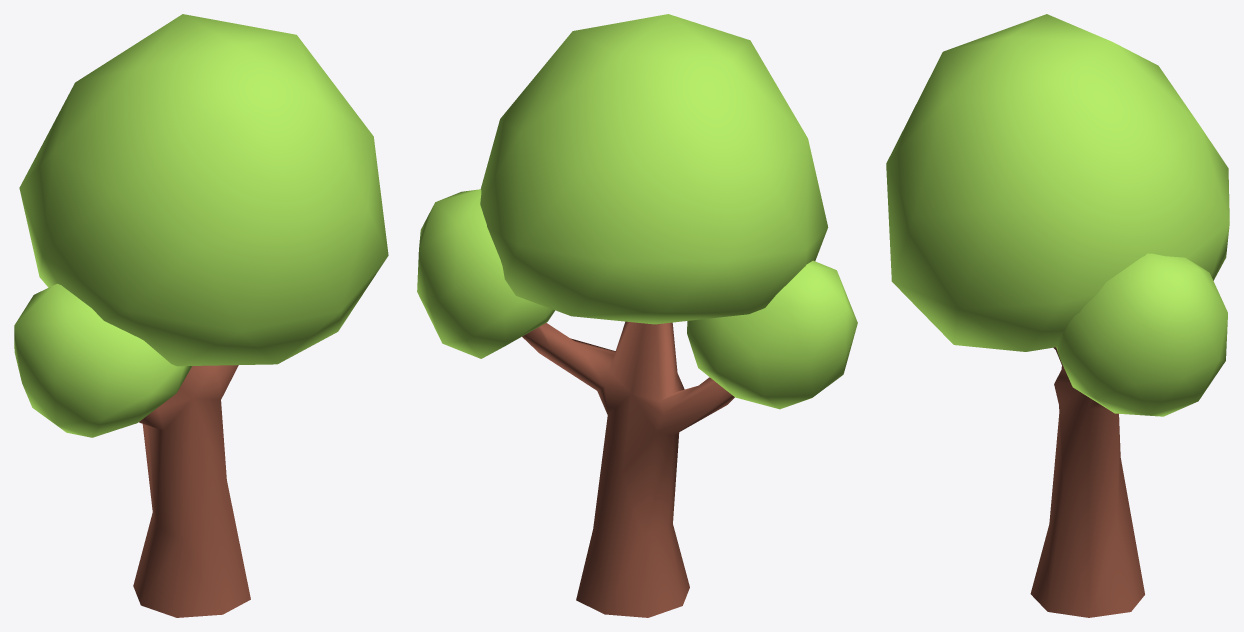
File: tree2.gltf
The picture shows the model from 3 angles, left to right: view 1: azimuth 30°, elevation 25°; view 2: azimuth 150°, elevation 25°; view 3: azimuth 270°, elevation 25°; orthographic projection. The views are drawn at different scales.
Parts seen in each view (by area): view 1: detail_treeC.001; view 2: detail_treeC.001; view 3: detail_treeC.001.
Boxes of the visible parts, x1,y1,x2,y2 form: detail_treeC.001: (14, 14, 388, 617); detail_treeC.001: (417, 14, 857, 617); detail_treeC.001: (886, 14, 1229, 617).
Size of the model in its own units: 0.1071 by 0.1515 by 0.0843.
